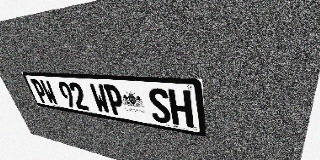2: (68, 82, 89, 111)
9: (56, 81, 78, 109)
H: (168, 89, 194, 128)
P: (103, 84, 126, 117), (30, 79, 50, 104)
S: (147, 87, 172, 124)
W: (89, 83, 111, 114), (39, 80, 59, 106)
